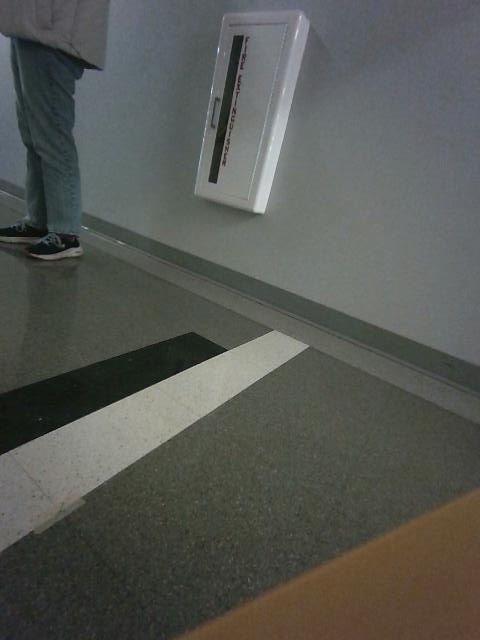ball: (194, 10, 308, 213)
